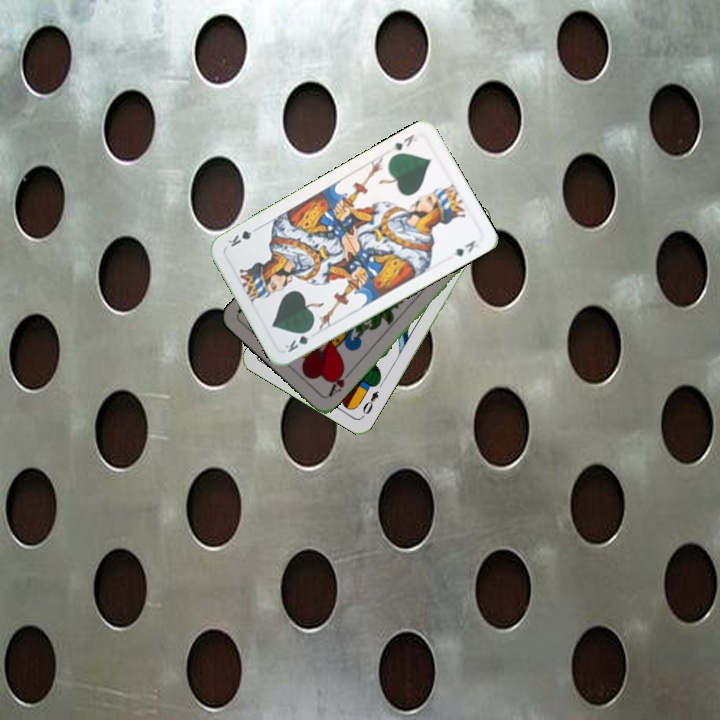EO: (358, 387, 381, 417)
GK: (281, 324, 315, 355), (388, 130, 417, 153)
HA: (324, 364, 354, 399)
